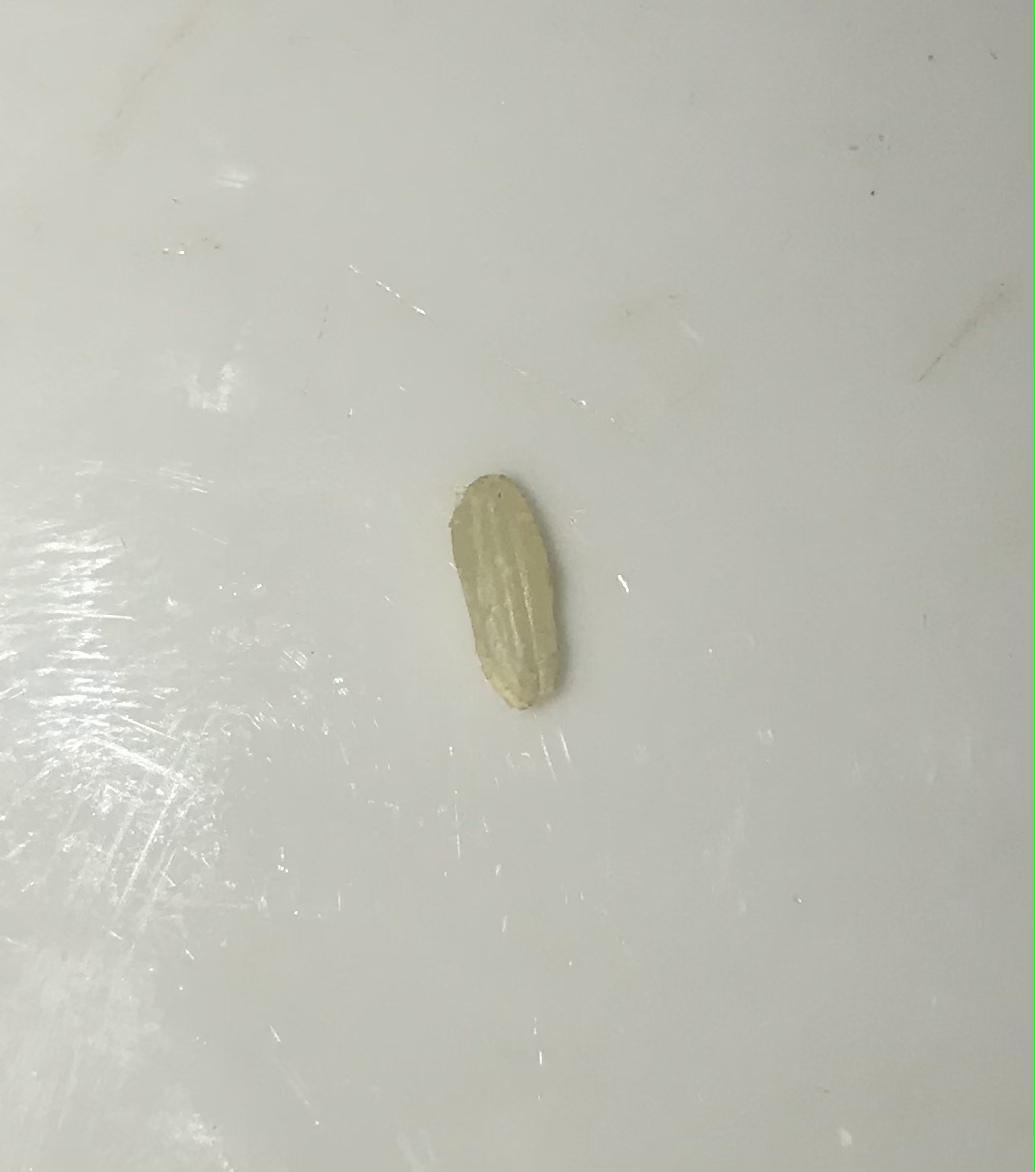Gao Lut Trang: (439, 465, 575, 718)
